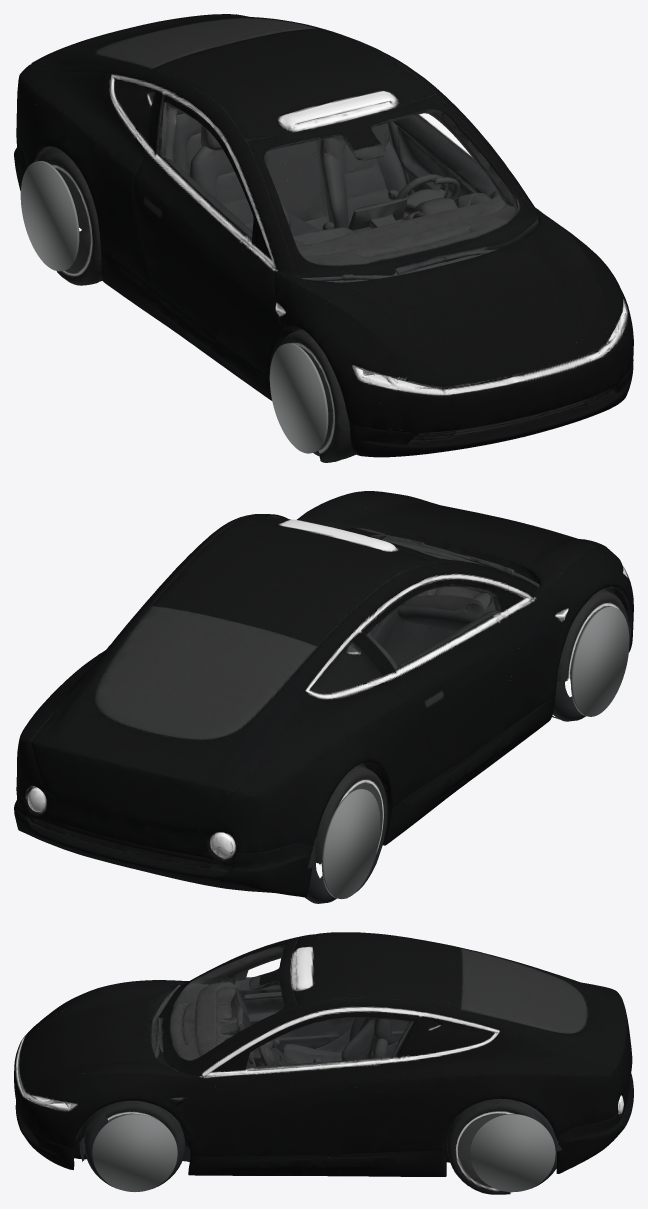
The model's file is cybercab-latest-final.glb.
3 views of the same model, one above another, from view 1: azimuth 30°, elevation 25°; view 2: azimuth 150°, elevation 25°; view 3: azimuth 270°, elevation 25° (orthographic). The views are drawn at different scales.
Parts seen in each view (by area): view 1: Body, Wheel_FL_Cover, Wheel_RL_Cover; view 2: Body, Wheel_RL_Cover, Wheel_FL_Cover, Wheel_FL_Tyre, Wheel_RL_Tyre; view 3: Body, Wheel_FR_Cover, Wheel_RR_Cover, Wheel_RR_Tyre, Wheel_FR_Tyre.
Part boxes in pixels (left/top/right/bottom): Body: left=14, top=14, right=633, bottom=462; Wheel_FL_Cover: left=20, top=161, right=79, bottom=271; Wheel_RL_Cover: left=269, top=343, right=328, bottom=453; Body: left=14, top=491, right=633, bottom=898; Wheel_RL_Cover: left=570, top=606, right=629, bottom=716; Wheel_FL_Cover: left=321, top=788, right=380, bottom=899; Wheel_FL_Tyre: left=305, top=808, right=336, bottom=903; Wheel_RL_Tyre: left=553, top=595, right=597, bottom=721; Body: left=14, top=932, right=633, bottom=1194; Wheel_FR_Cover: left=470, top=1114, right=555, bottom=1191; Wheel_RR_Cover: left=92, top=1114, right=177, bottom=1191; Wheel_RR_Tyre: left=84, top=1111, right=185, bottom=1188; Wheel_FR_Tyre: left=518, top=1101, right=562, bottom=1188.
Size of the model in its own units: 1.91 by 1.44 by 4.45.
Materials: 3 (1 with a texture image).
